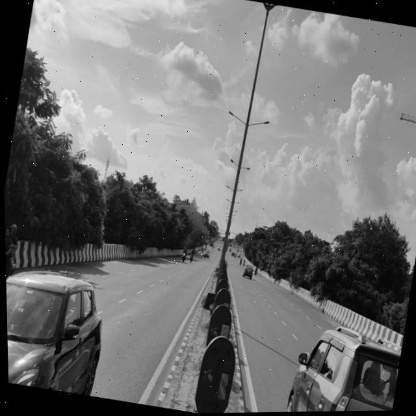bike: (4, 241, 16, 302)
car: (4, 256, 112, 397), (279, 315, 404, 413)
